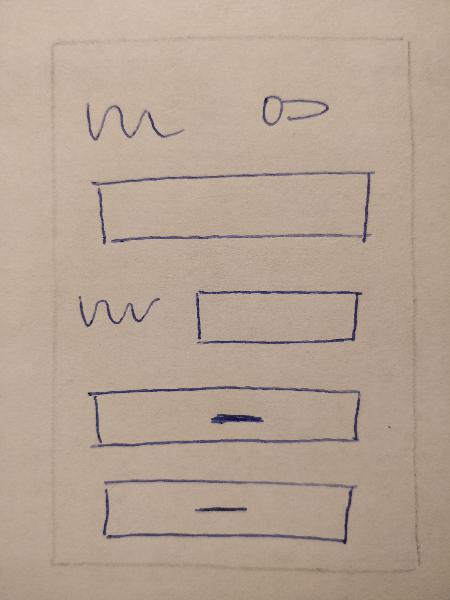button: (80, 380, 366, 458), (92, 470, 364, 551)
switch: (244, 83, 341, 131)
text: (78, 87, 187, 155), (68, 280, 167, 330)
text_input: (81, 167, 386, 255), (188, 280, 368, 354)
